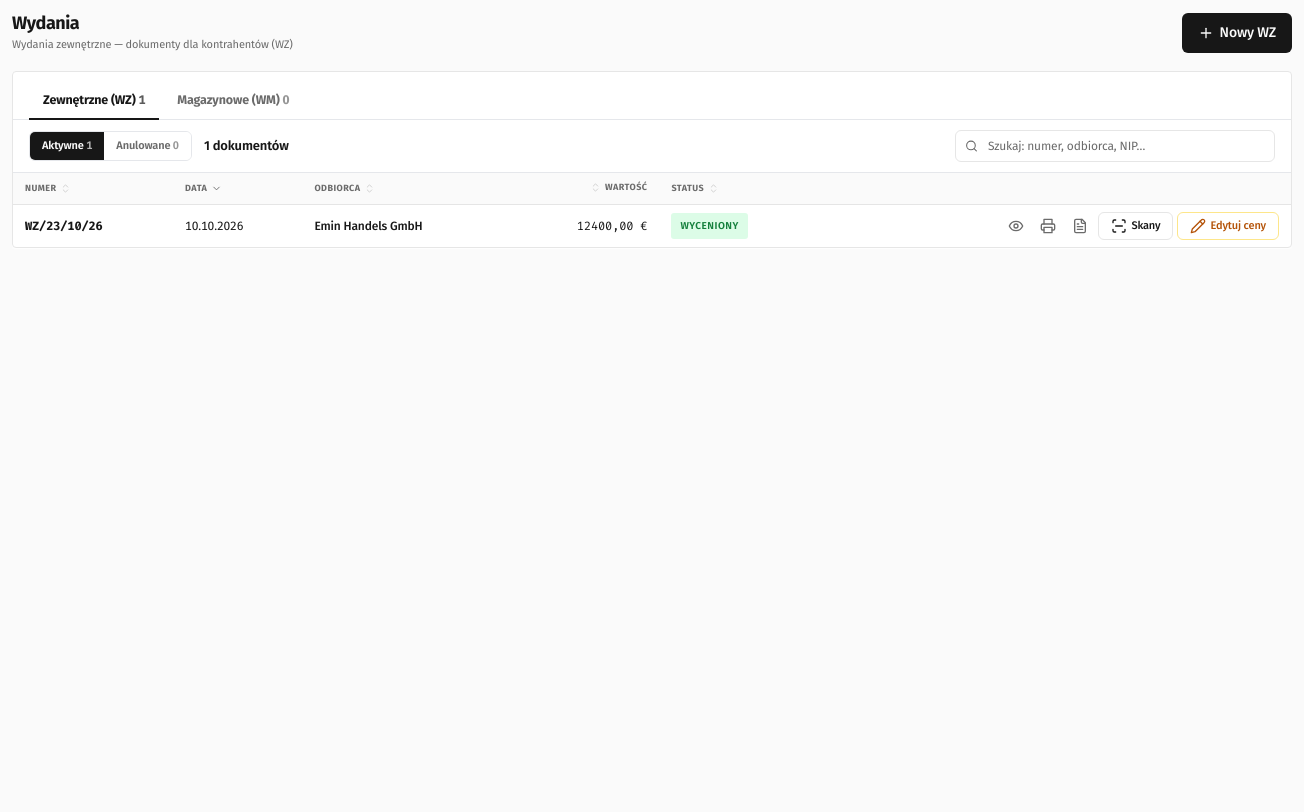
Test: korekta już wycenionego WZ z kursu › błąd zapisu zachowuje formularz i korektę
The width and height of the screenshot is (1304, 812).
Expected: the text "WZ/23/10/26" is shown, [13, 204, 173, 247]
Click the button "Edytuj ceny" at (1228, 226), box [1178, 212, 1279, 240]
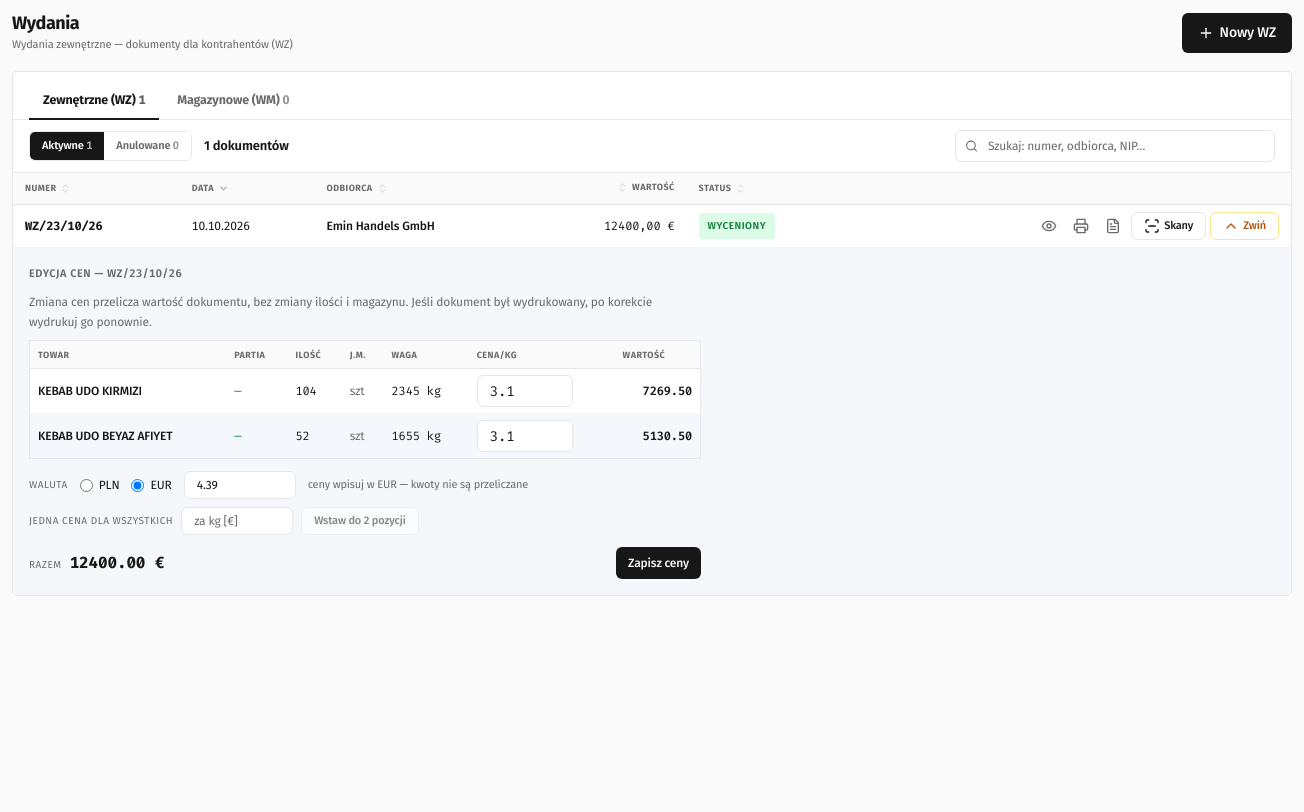
Replace the text in the field named "Cena pozycji 1" with "3,15" at (525, 391), box [477, 375, 573, 407]
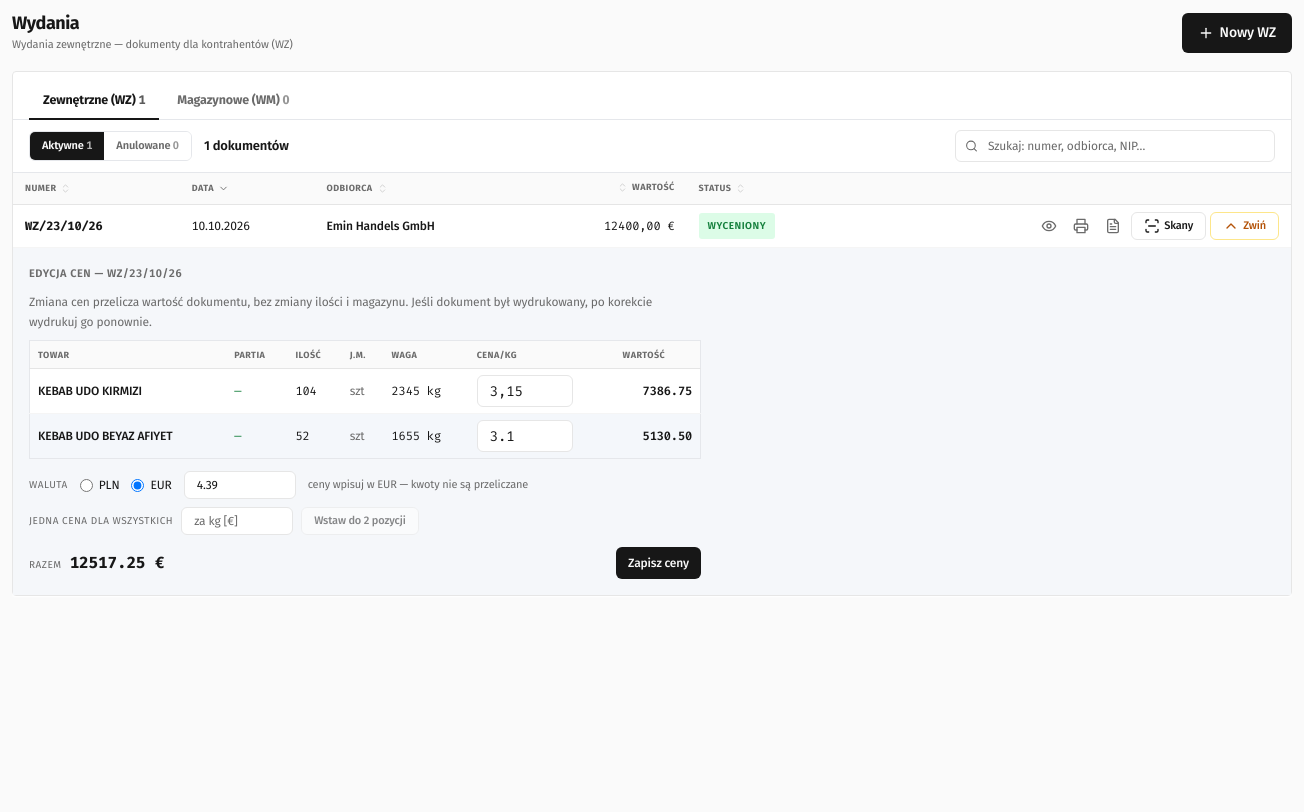
Click the button "Zapisz ceny" at (658, 563), box [616, 547, 701, 579]
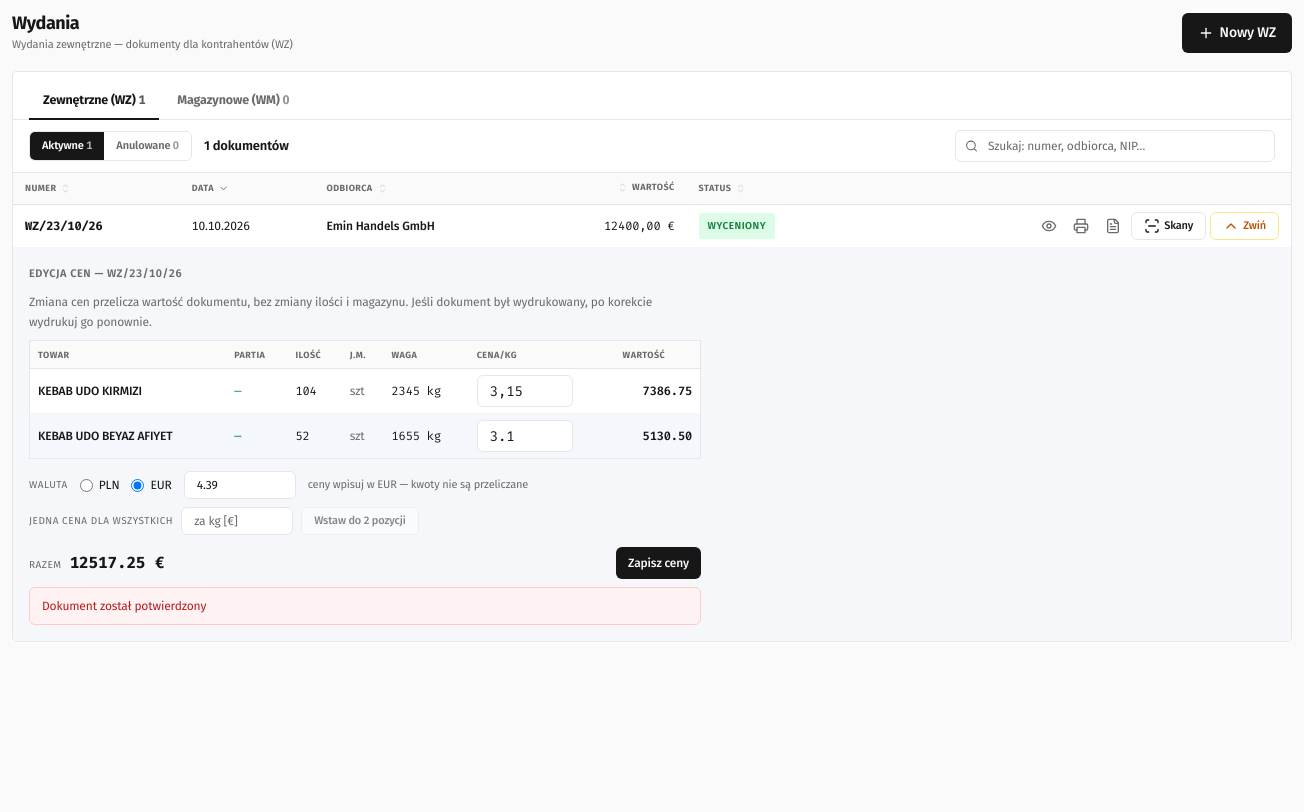
Now the text "Dokument został potwierdzony" is shown, box [29, 587, 701, 625]
